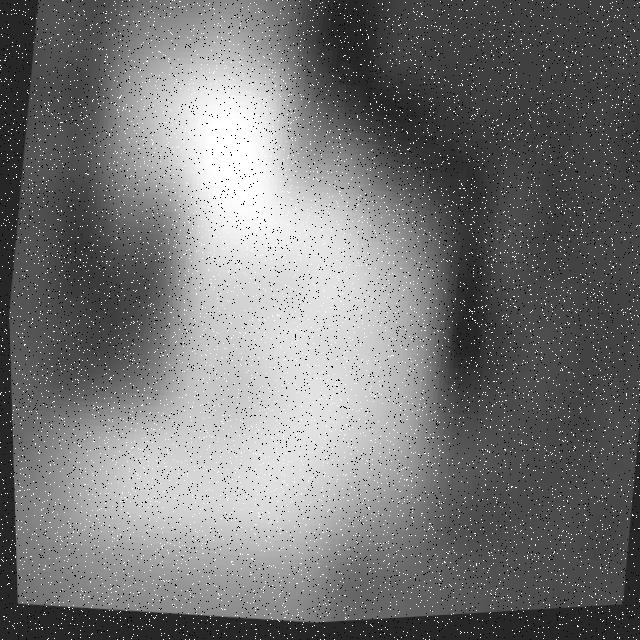person: (1, 1, 510, 640)
